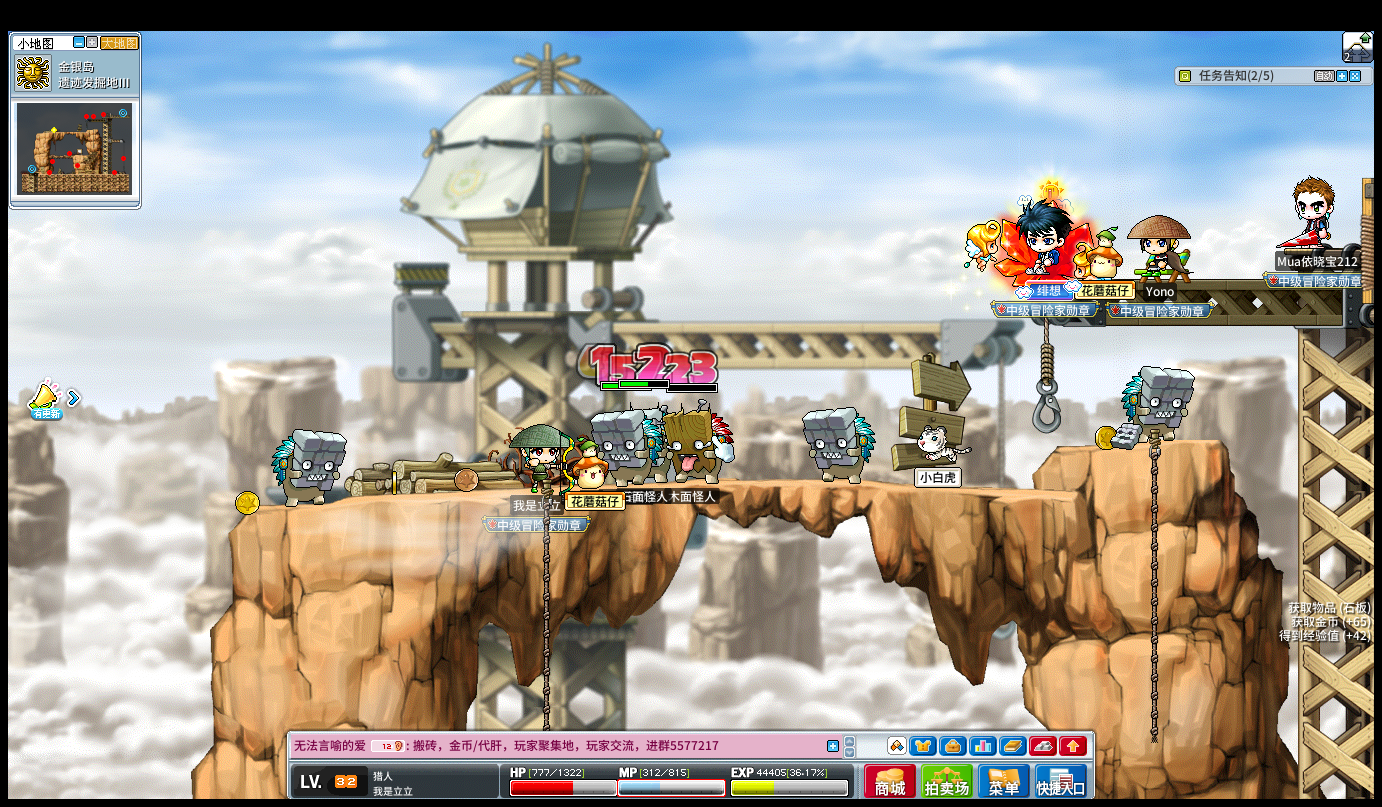floor: (222, 474, 1142, 494), (372, 477, 1090, 498), (1061, 436, 1225, 452)
monster: (658, 402, 735, 481), (270, 428, 346, 507), (1121, 365, 1195, 444), (802, 407, 876, 484), (592, 408, 661, 482)
rope: (1145, 426, 1161, 748), (539, 479, 551, 686)
